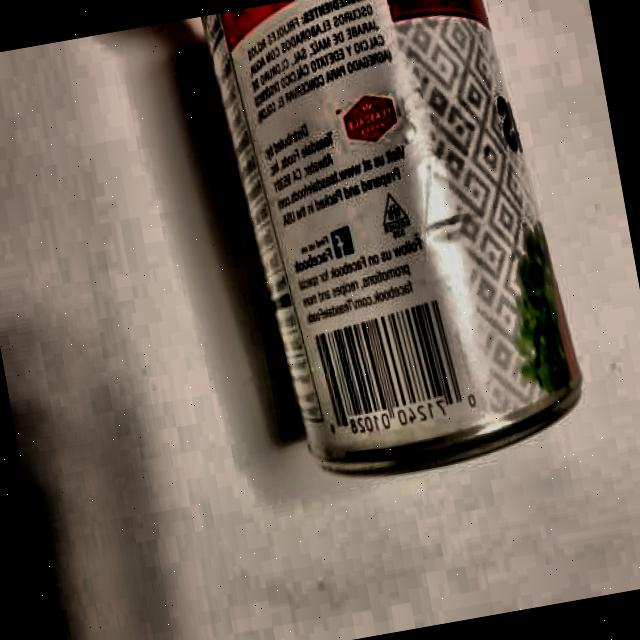metal: (209, 0, 595, 491)
